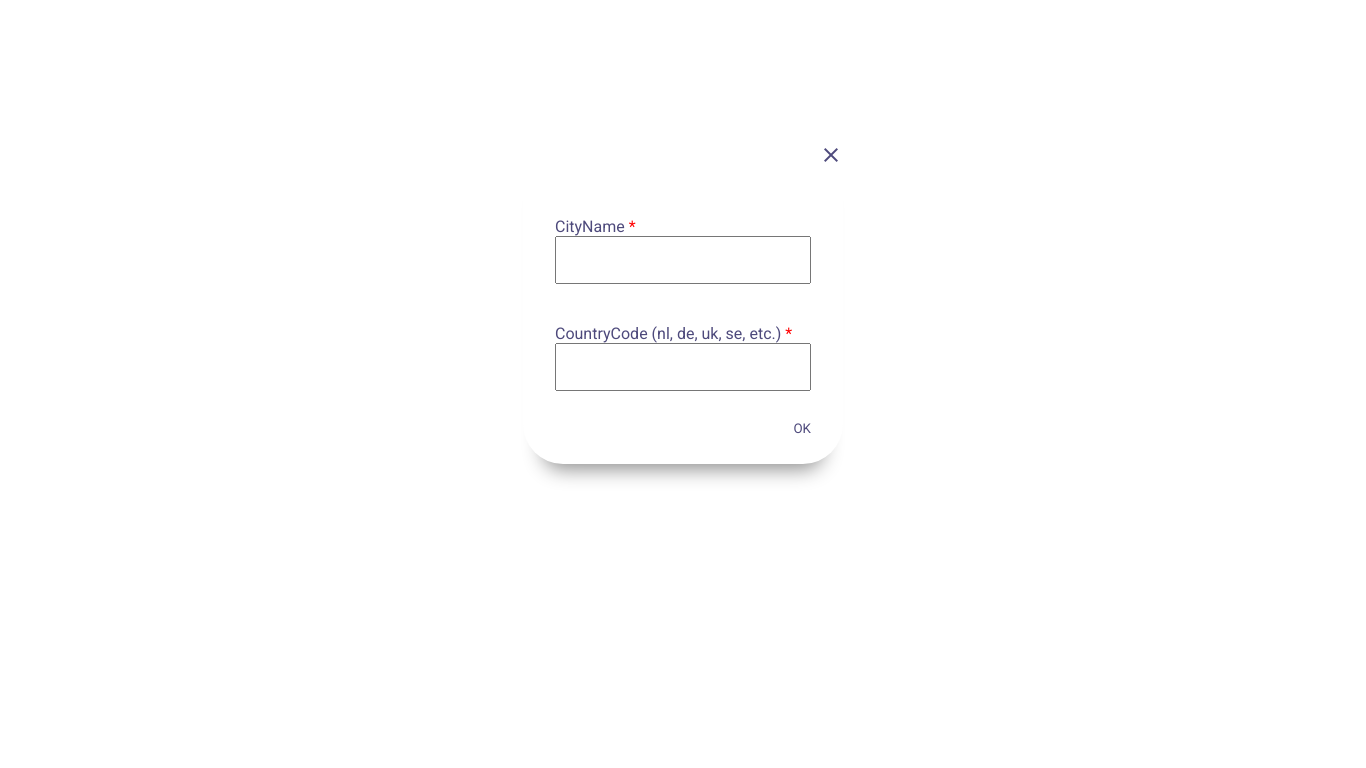
Test: renders error message when city cannot be found
Type "Nergens" into the search field with test id "cityname". click: (683, 260)
box: left=555, top=236, right=811, bottom=284
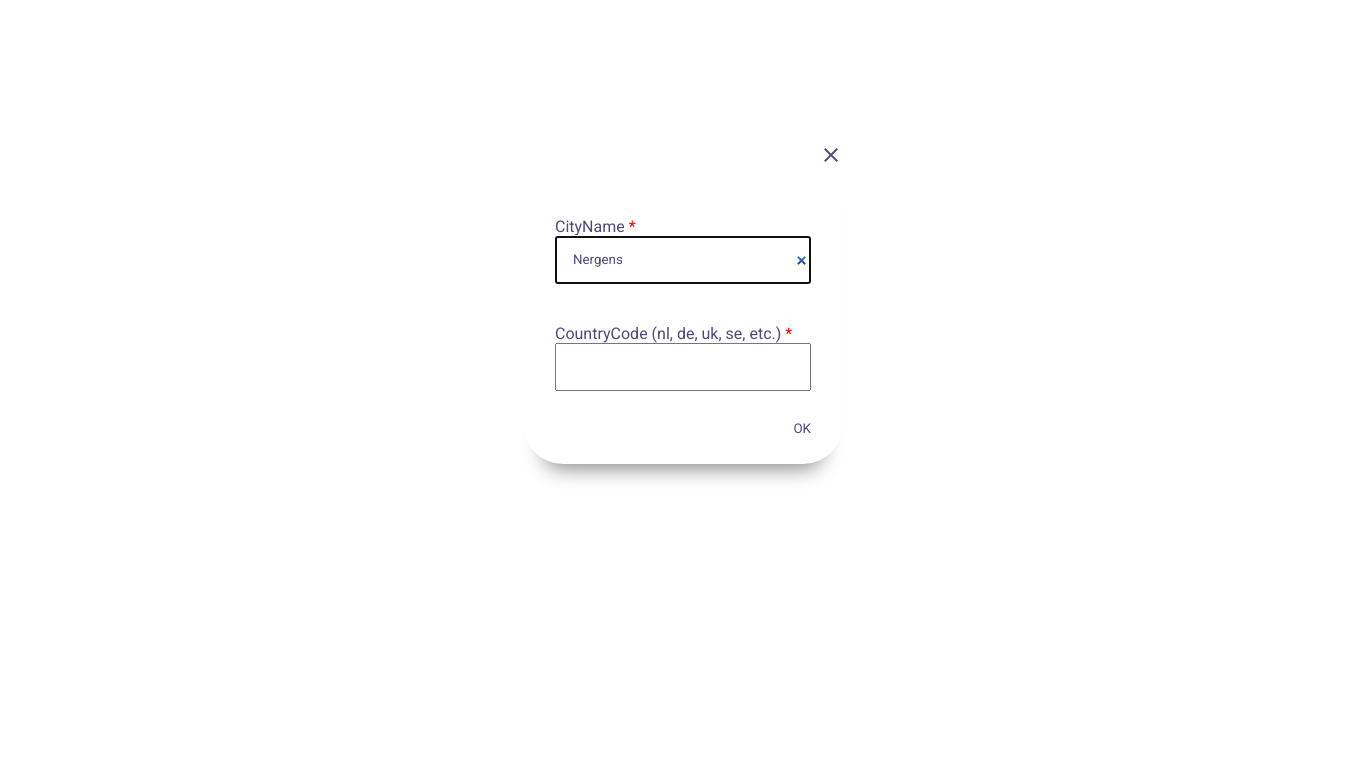
Type "Land" into the search field with test id "countrycode". click: (683, 367)
box: left=555, top=343, right=811, bottom=391
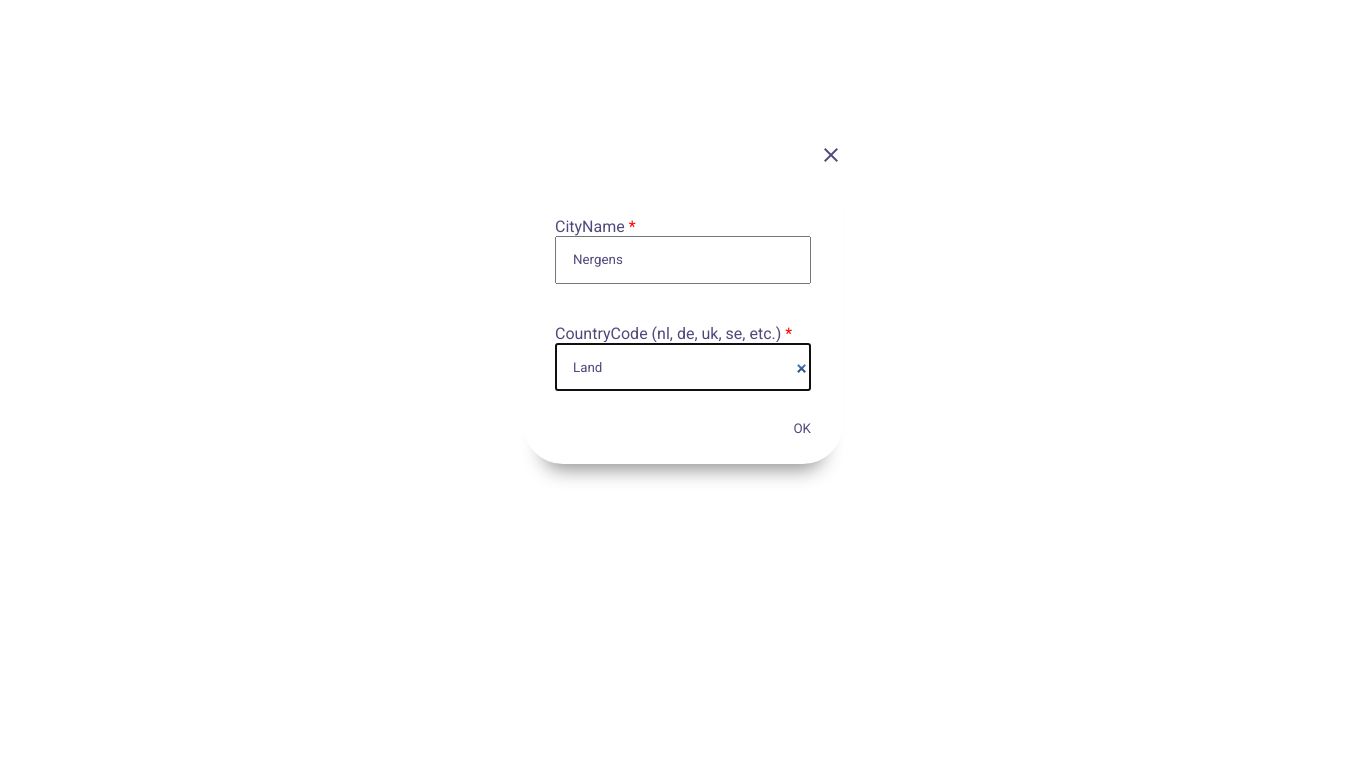
Click the button with test id "button-ok". click: (802, 428)
box: left=778, top=408, right=827, bottom=448
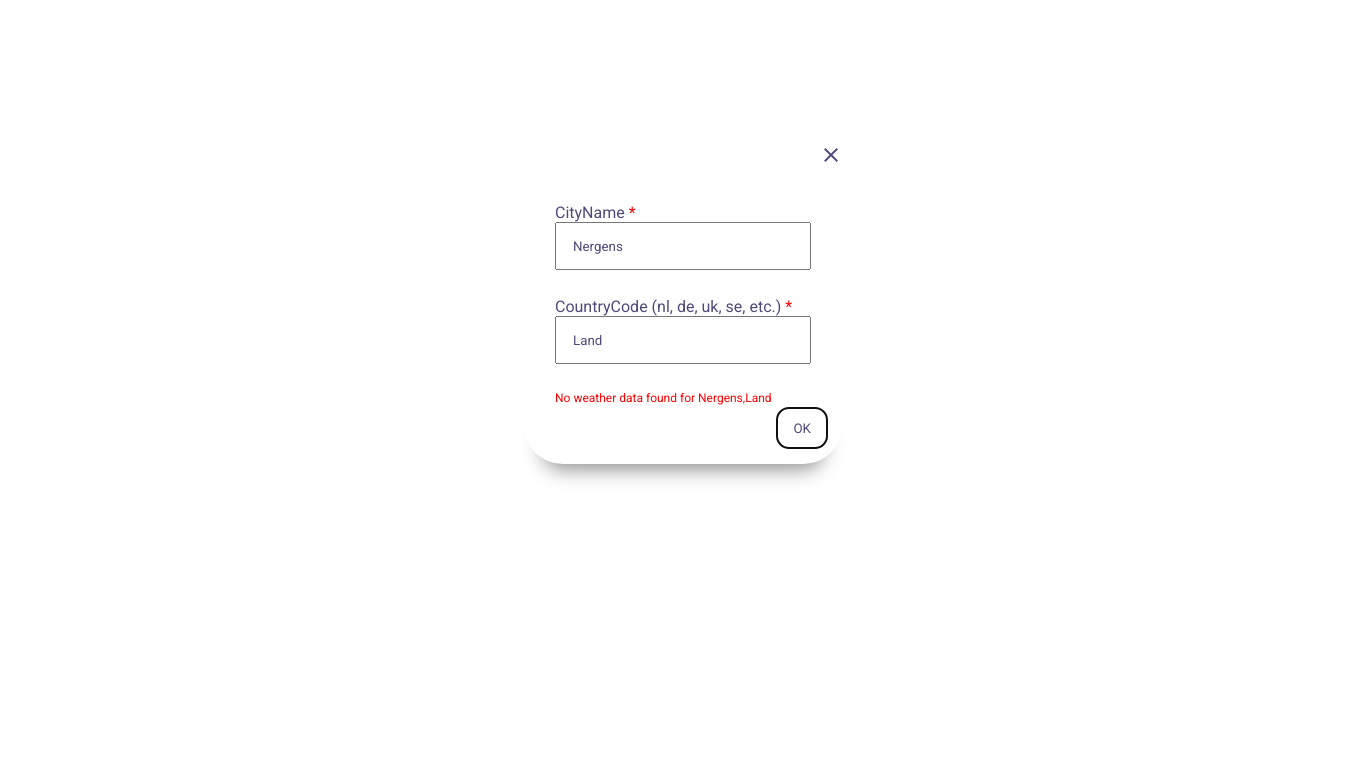
expect the text "No weather data found for Nergens,Land" is shown: met, box left=555, top=391, right=772, bottom=405
